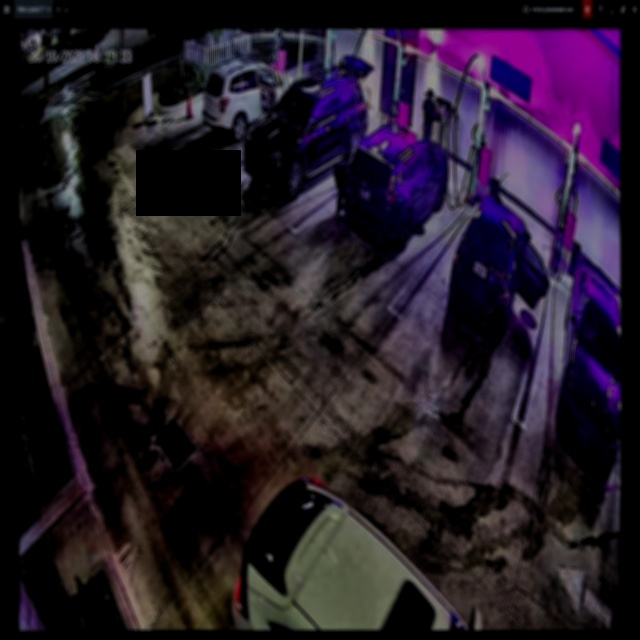Car: (245, 55, 366, 206), (446, 191, 543, 336), (339, 128, 447, 247)
